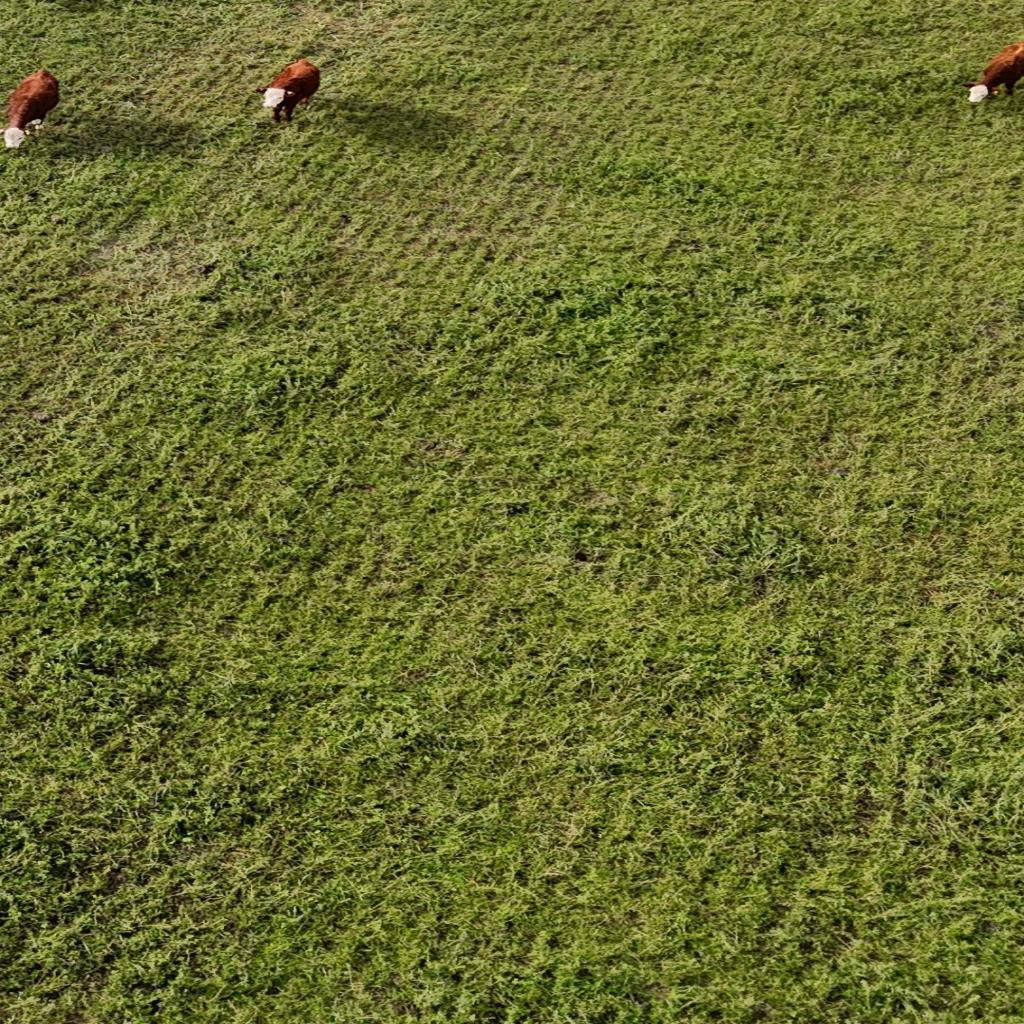cow: (246, 58, 328, 130), (0, 69, 63, 150), (959, 38, 1024, 104)
